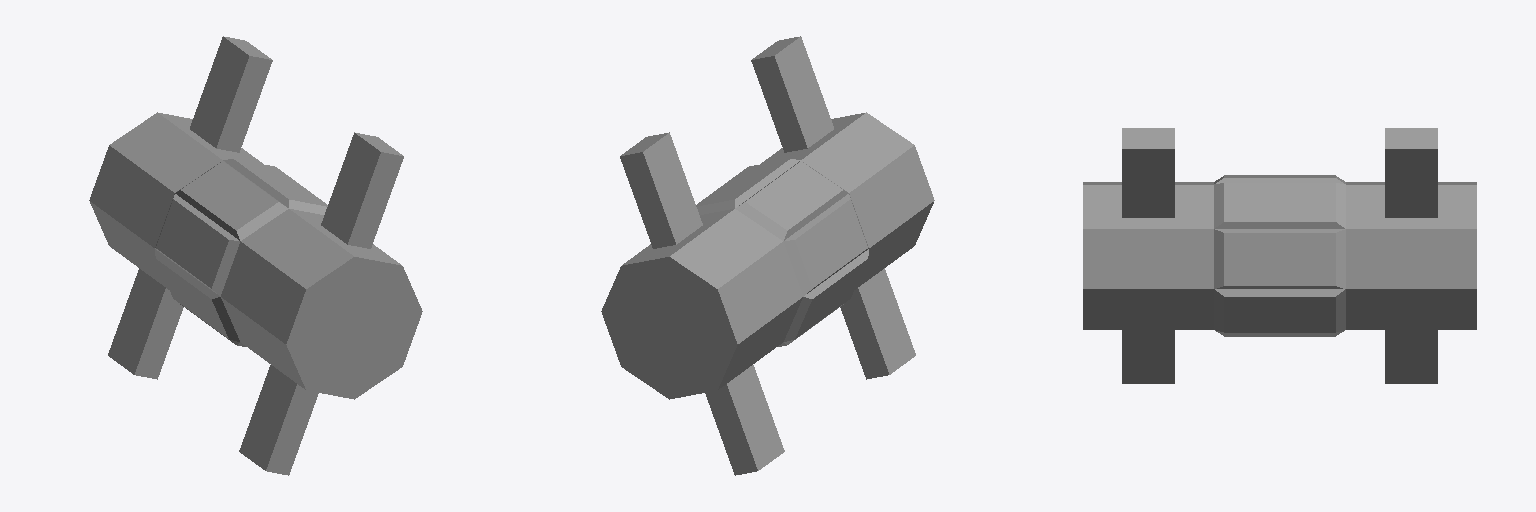
Rendered from AntennaArm.obj.
3 renders of one model, left to right at view 1: azimuth 30°, elevation 25°; view 2: azimuth 150°, elevation 25°; view 3: azimuth 270°, elevation 25°, orthographic.
Parts seen in each view (by area): view 1: Atenna_Arm_Cylinder.004; view 2: Atenna_Arm_Cylinder.004; view 3: Atenna_Arm_Cylinder.004.
Boxes of the visible parts, box(x1,y1,x2,y2) form: Atenna_Arm_Cylinder.004: box(89, 36, 422, 475); Atenna_Arm_Cylinder.004: box(601, 36, 934, 475); Atenna_Arm_Cylinder.004: box(1083, 128, 1476, 383).
Bounding box in the file's own units: 0.424 × 0.8433 × 1.